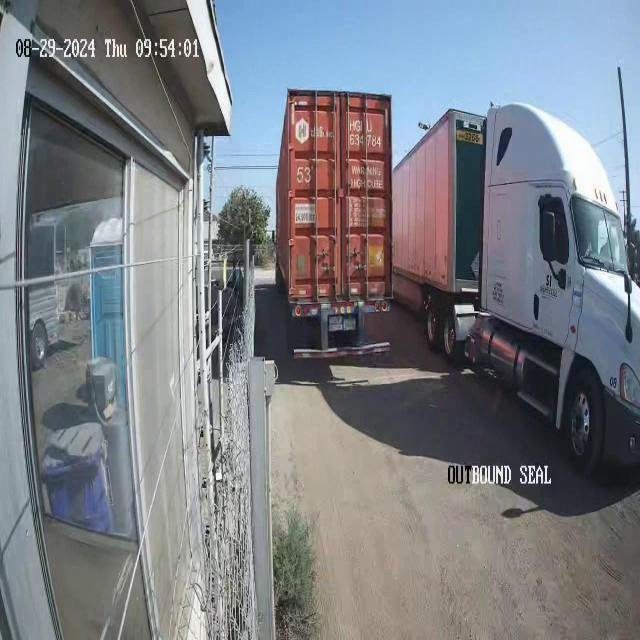TRUCK_CONTAINER: (394, 105, 640, 461), (272, 87, 393, 357)
